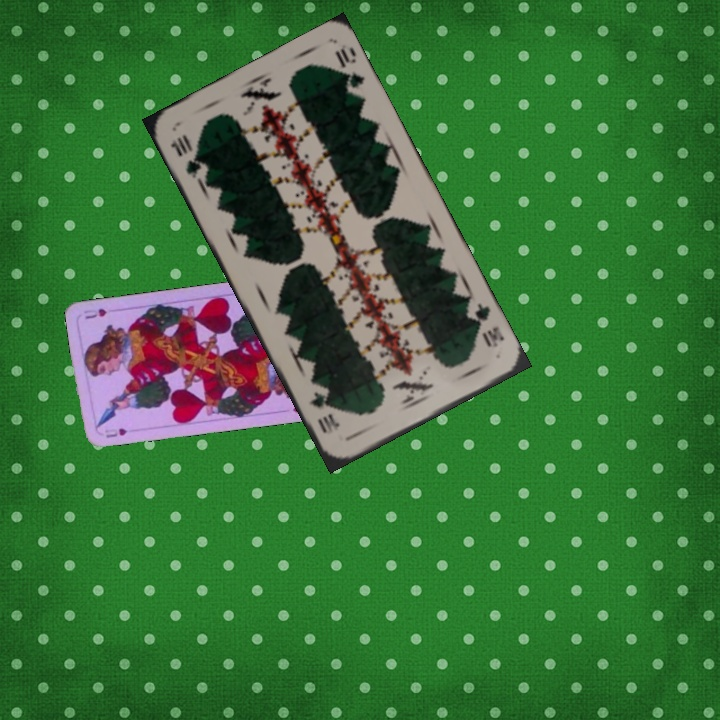G10: (466, 298, 507, 350), (166, 130, 204, 185)
HU: (102, 424, 130, 440)
